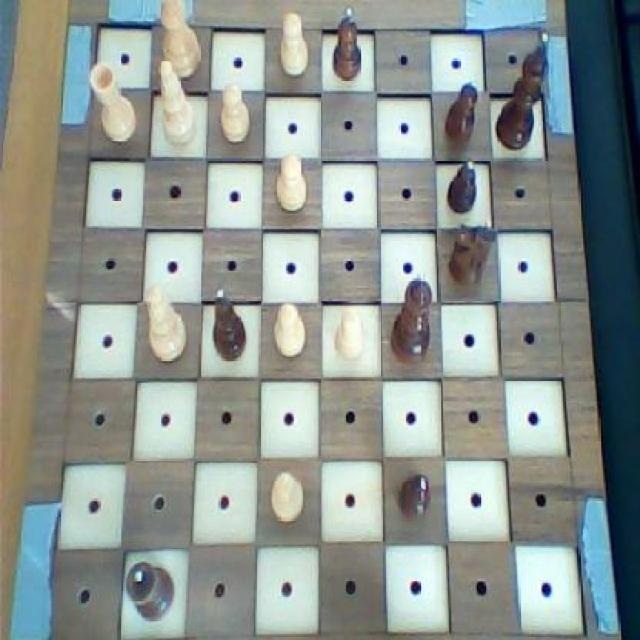bishop: (209, 286, 254, 366)
black-bishop: (491, 28, 552, 153)
black-king: (446, 217, 498, 294)
black-knight: (440, 75, 481, 150), (328, 4, 363, 88), (394, 470, 434, 526), (446, 157, 480, 217)
black-pawn: (386, 269, 433, 366)
black-queen: (123, 559, 179, 626)
black-rook: (154, 58, 201, 151), (142, 278, 192, 364)
white-bishop: (152, 0, 203, 83)
white-knight: (274, 8, 312, 82), (266, 297, 306, 364), (266, 468, 309, 528), (215, 79, 253, 146), (274, 152, 308, 217), (331, 304, 365, 360)
white-queen: (90, 62, 142, 149)
